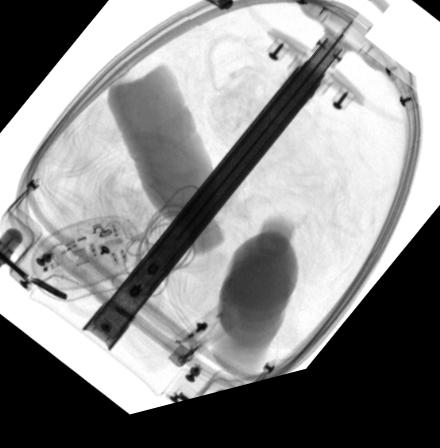Lighter: (167, 312, 237, 376)
